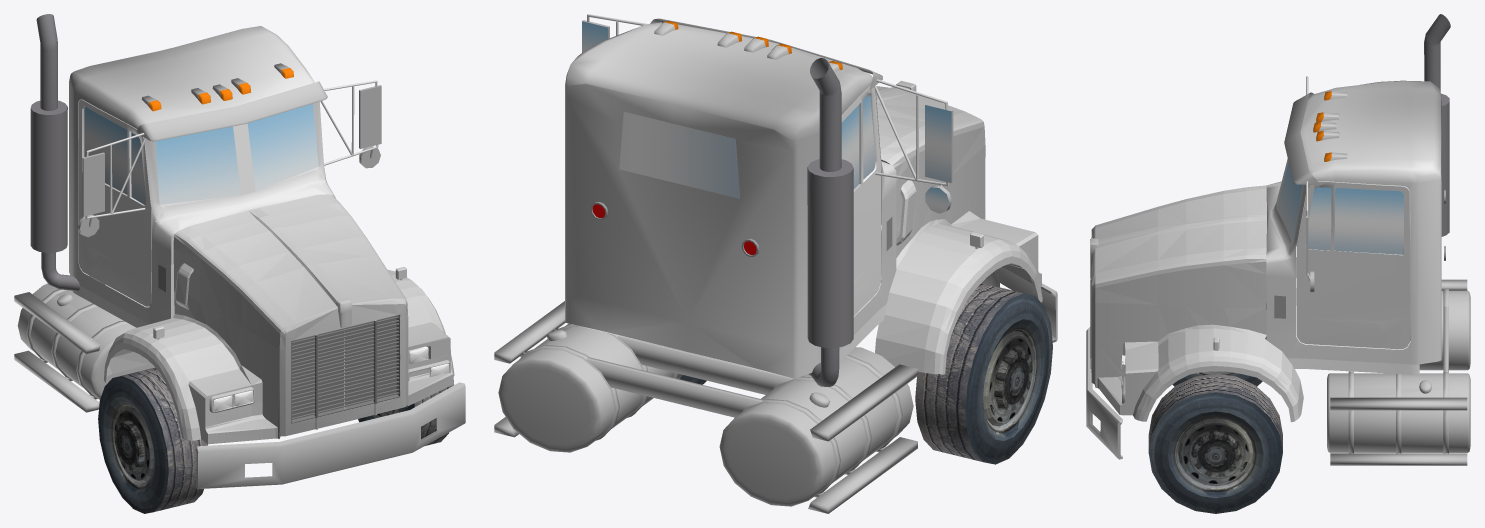
File: TruckHead.FBX
3 views of the same model, side by side, from view 1: azimuth 30°, elevation 25°; view 2: azimuth 150°, elevation 25°; view 3: azimuth 270°, elevation 25° (orthographic). The views are drawn at different scales.
Visible parts, largest first — view 1: Group_077, Group_094, Group_087, newtire009, Group_071, Group_093, Group_109, Group_105, Plane003, Group_111, Box003, Box002 (+7 smaller); view 2: Group_094, Group_071, Group_077, newtire009, Group_109, Group_093, Group_111, Box003, Plane003, Group_087, Line003, Group_106 (+4 smaller); view 3: Group_077, Group_094, Group_071, newtire006, Group_090, Plane004, Group_087, Group_089, Group_105, Group_109, Group_111, Group_106.
Part boxes in pixels (box(x1,y1,x2,y2)): Group_077: box(103, 194, 454, 444); Group_094: box(69, 26, 335, 324); Group_087: box(195, 382, 465, 489); newtire009: box(98, 367, 207, 513); Group_071: box(14, 283, 344, 412); Group_093: box(78, 99, 151, 306); Group_109: box(30, 100, 67, 252); Group_105: box(136, 81, 327, 141); Plane003: box(84, 107, 146, 204); Group_111: box(36, 14, 57, 110); Box003: box(82, 152, 104, 216); Box002: box(359, 85, 381, 148); Group_094: box(565, 22, 896, 378); Group_071: box(494, 301, 917, 513); Group_077: box(875, 86, 1042, 374); newtire009: box(915, 283, 1052, 464); Group_109: box(807, 159, 853, 347); Group_093: box(841, 85, 881, 316); Group_111: box(810, 58, 841, 171); Box003: box(925, 104, 953, 182); Plane003: box(841, 94, 875, 189); Group_087: box(880, 229, 1057, 342); Line003: box(874, 79, 949, 186); Group_106: box(654, 22, 839, 72); Group_077: box(1090, 185, 1303, 422); Group_094: box(1266, 80, 1441, 364); Group_071: box(1327, 279, 1470, 465); newtire006: box(1148, 373, 1282, 513); Group_090: box(1296, 181, 1410, 349); Plane004: box(1305, 187, 1403, 254); Group_087: box(1086, 327, 1122, 459); Group_089: box(1287, 278, 1419, 374); Group_105: box(1284, 92, 1319, 184); Group_109: box(1441, 93, 1449, 236); Group_111: box(1424, 14, 1450, 91); Group_106: box(1319, 91, 1347, 160).
Bounding box in the file's own units: 159 × 201 × 184.
Materials: 16 (7 with a texture image).
